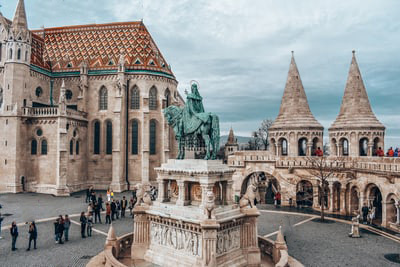copymove: (265, 48, 327, 156)
removal: (44, 1, 69, 42)
spliced: (106, 186, 117, 202)
